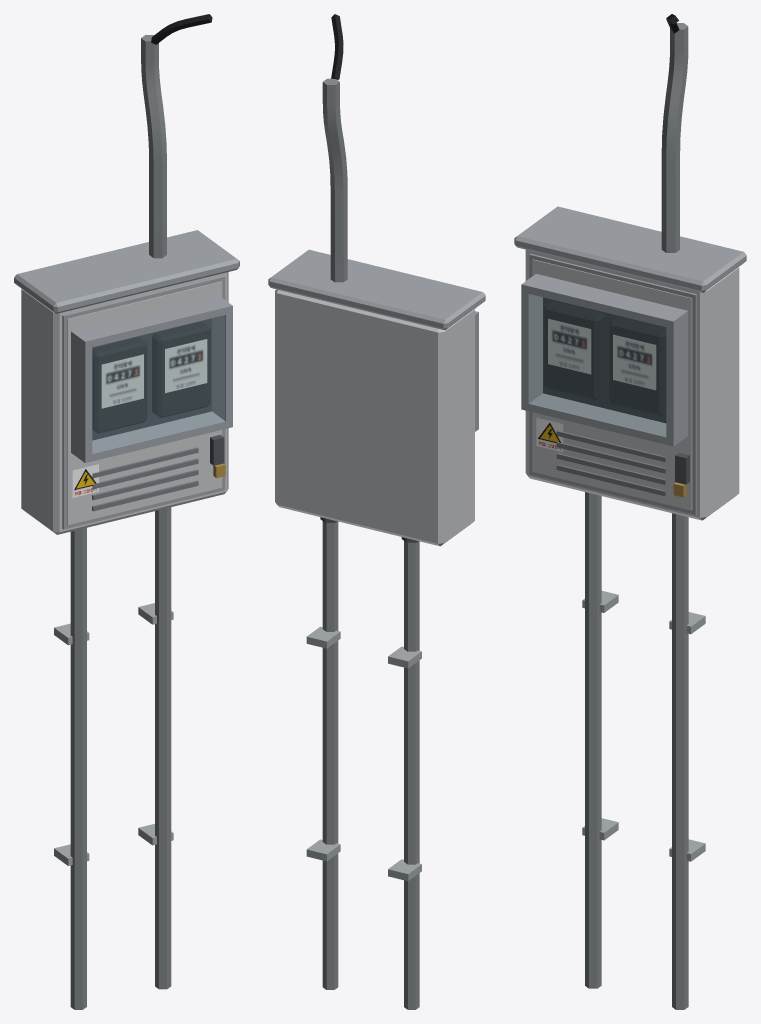
File: SC_Util_Electric_Meter_Box.gltf
3 views of the same model, side by side, from view 1: azimuth 30°, elevation 25°; view 2: azimuth 150°, elevation 25°; view 3: azimuth 330°, elevation 25° (orthographic). The views are drawn at different scales.
Parts seen in each view (by area): view 1: SC_Util_Electric_Meter_Box; view 2: SC_Util_Electric_Meter_Box; view 3: SC_Util_Electric_Meter_Box.
Part boxes in pixels (x1,y1,x2,y2): SC_Util_Electric_Meter_Box: (14, 14, 239, 1009); SC_Util_Electric_Meter_Box: (268, 14, 485, 1009); SC_Util_Electric_Meter_Box: (514, 14, 746, 1009).
Size of the model in its own units: 0.53 by 2.68 by 0.263.
3 materials, 3 textured.
